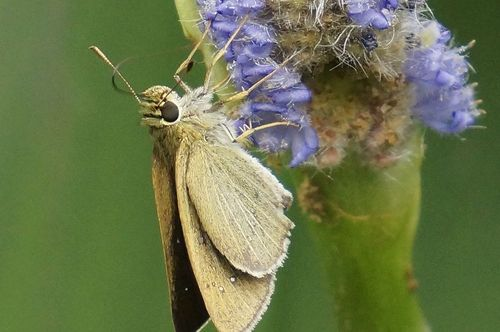Hesperiidae: (88, 20, 308, 332)
